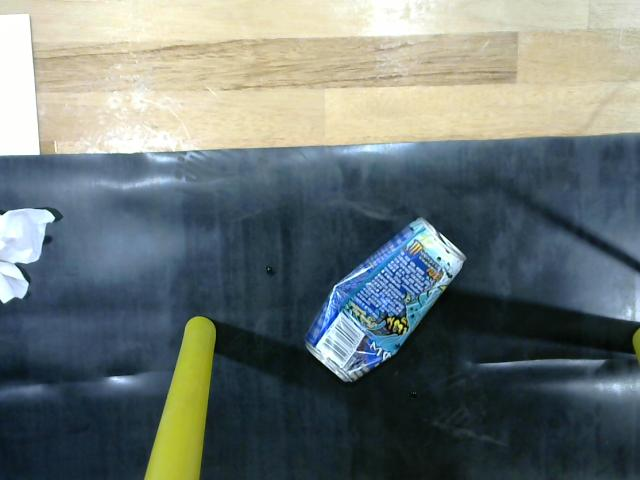can: (299, 216, 479, 394)
